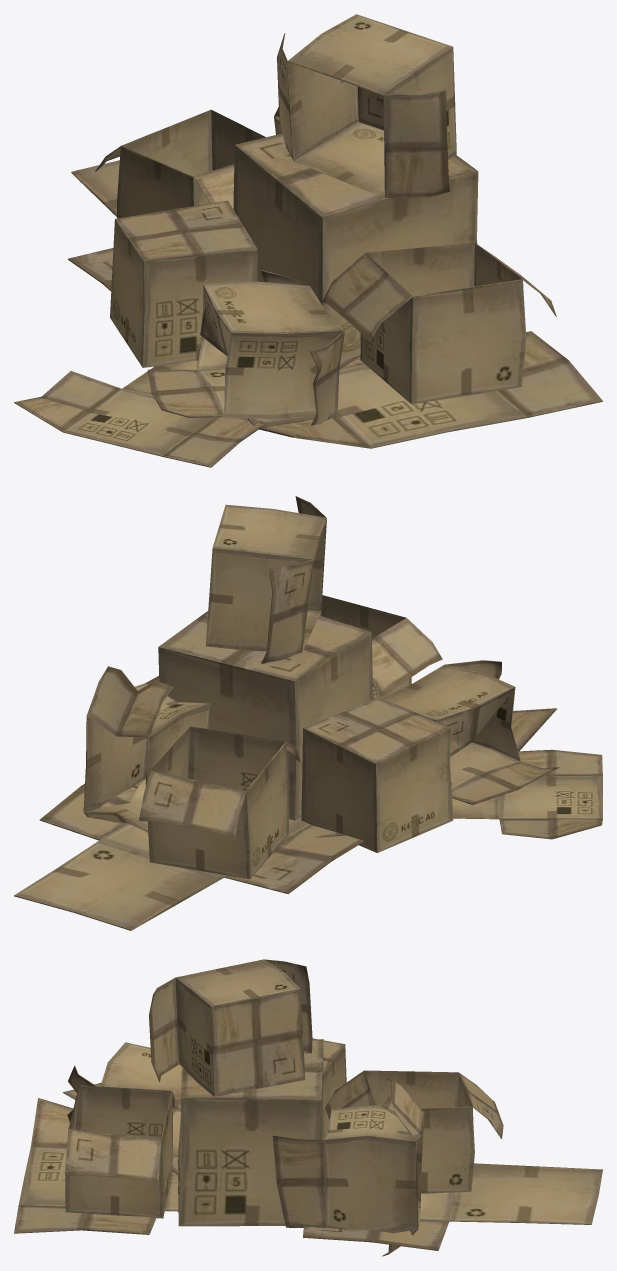
Rendered from nuclear_missile_silo_fx.glb.
3 renders of one model, top to bottom at view 1: azimuth 30°, elevation 25°; view 2: azimuth 150°, elevation 25°; view 3: azimuth 270°, elevation 25°, orthographic. The views are drawn at different scales.
Visible parts, largest first — view 1: cardboard_box_pile_a (1); view 2: cardboard_box_pile_a (1); view 3: cardboard_box_pile_a (1).
Part boxes in pixels (box(x1,y1,x2,y2)): cardboard_box_pile_a (1): box(14, 14, 602, 467); cardboard_box_pile_a (1): box(14, 496, 602, 930); cardboard_box_pile_a (1): box(14, 959, 602, 1256).
Bounding box in the file's own units: 2.31 × 1.34 × 2.92.
Materials: 1 (1 with a texture image).
